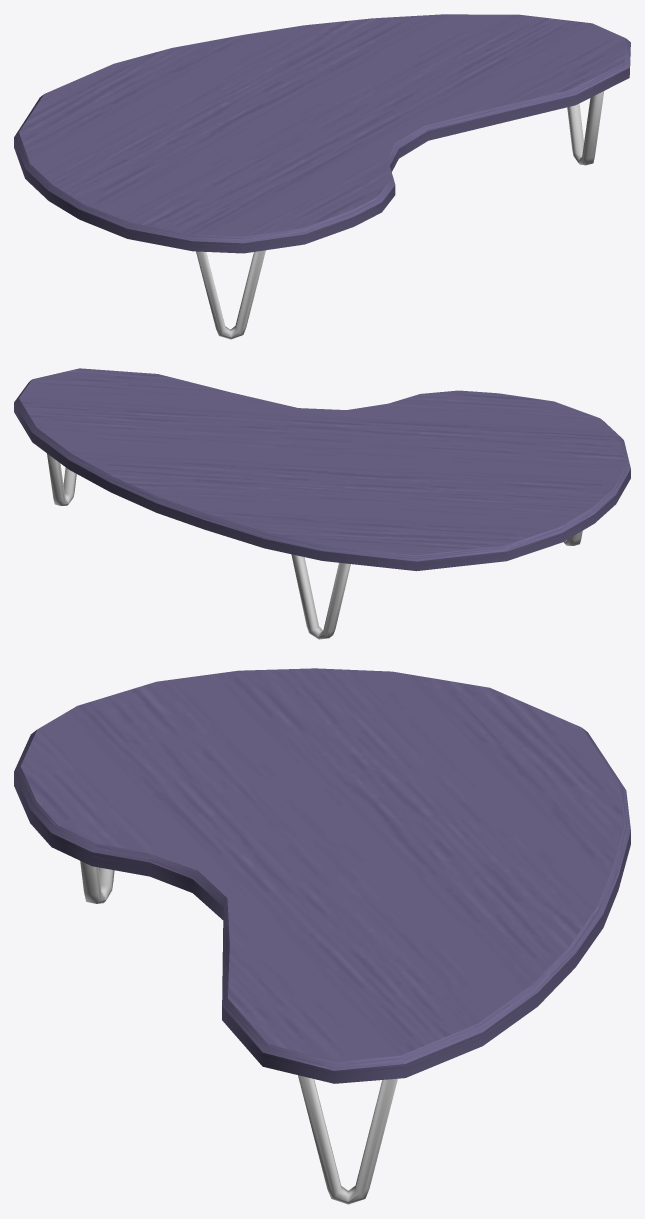
File: Kidney_Table_08.FBX
The picture shows the model from 3 angles, top to bottom: view 1: azimuth 30°, elevation 25°; view 2: azimuth 150°, elevation 25°; view 3: azimuth 270°, elevation 25°; orthographic projection. The views are drawn at different scales.
Parts seen in each view (by area): view 1: Kidney_Bean_Table; view 2: Kidney_Bean_Table; view 3: Kidney_Bean_Table.
Part boxes in pixels (x1,y1,x2,y2): Kidney_Bean_Table: (14, 14, 630, 339); Kidney_Bean_Table: (14, 368, 630, 639); Kidney_Bean_Table: (14, 668, 630, 1204).
Bounding box in the file's own units: 396 × 76.96 × 259.
